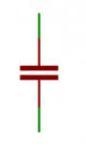Capacitor: (13, 44, 69, 99)
